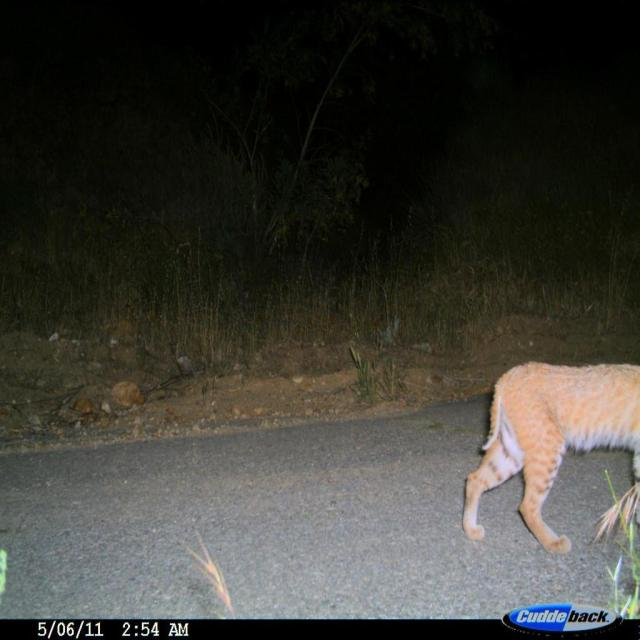bobcat: (458, 355, 639, 564)
